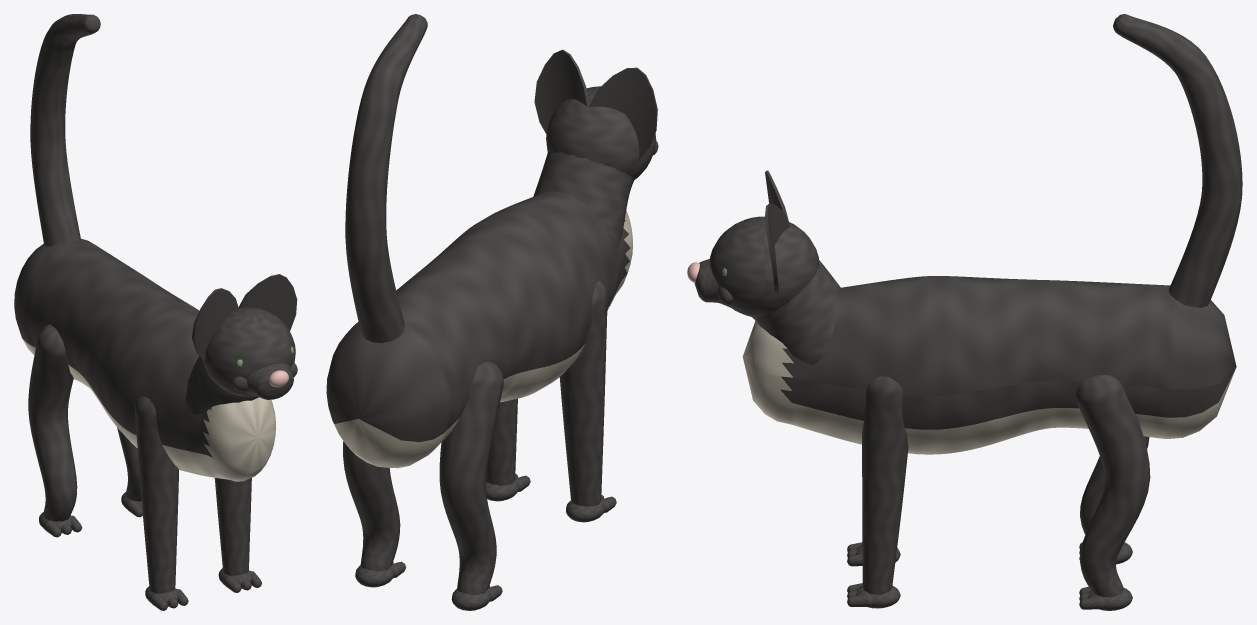
Rendered from pets-and-companions-hd-domestic-shorthair-tuxedo-16b5f58f__28153.glb.
The picture shows the model from 3 angles, left to right: view 1: azimuth 30°, elevation 25°; view 2: azimuth 150°, elevation 25°; view 3: azimuth 270°, elevation 25°; orthographic projection. The views are drawn at different scales.
Parts seen in each view (by area): view 1: domestic-shorthair-tuxedo; view 2: domestic-shorthair-tuxedo; view 3: domestic-shorthair-tuxedo.
Part boxes in pixels (x1,y1,x2,y2): domestic-shorthair-tuxedo: [14, 14, 297, 610]; domestic-shorthair-tuxedo: [326, 14, 658, 610]; domestic-shorthair-tuxedo: [687, 14, 1242, 610].
Bounding box in the file's own units: 0.1277 × 0.4983 × 0.4395.
5 materials, 2 textured.
